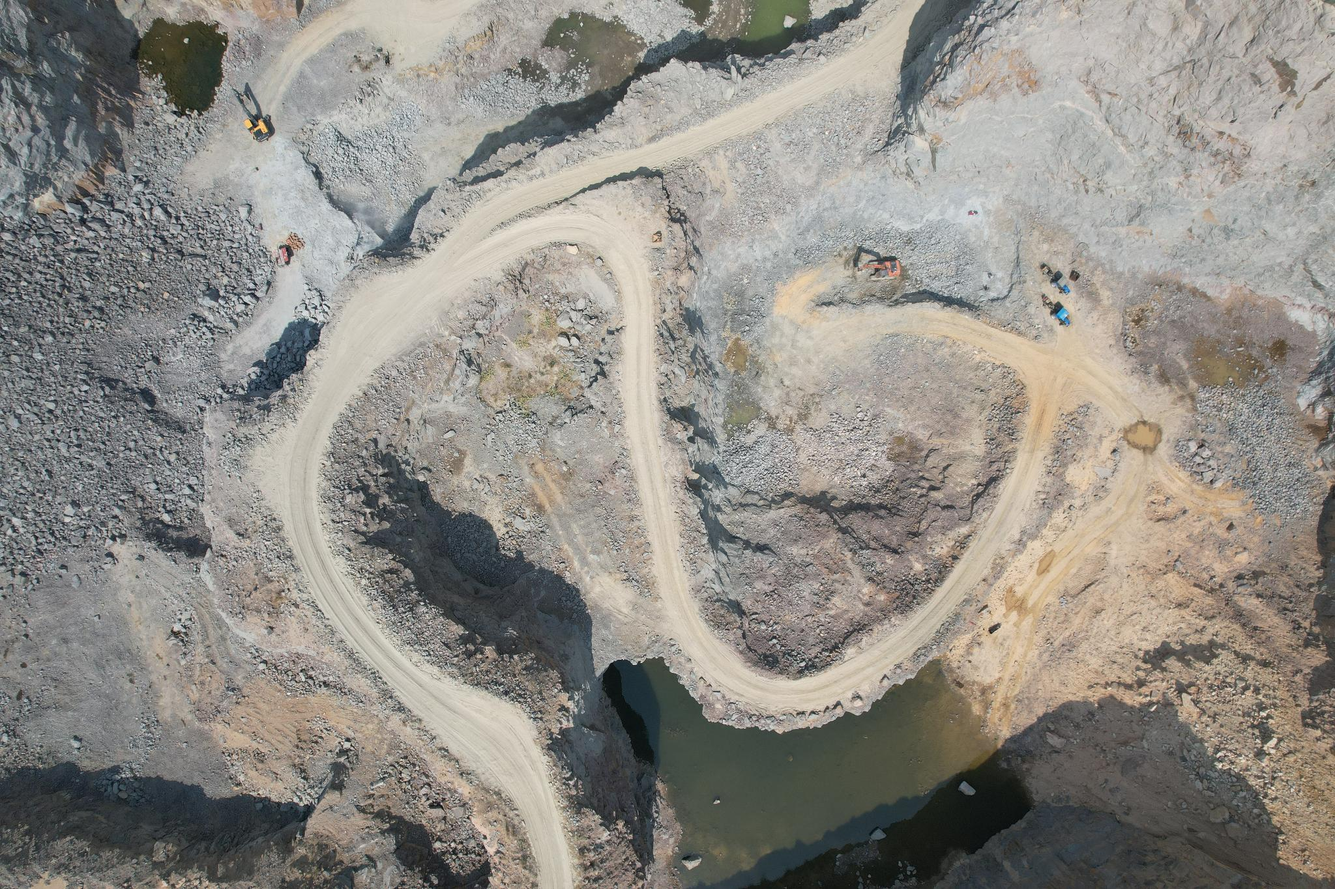benches: (268, 0, 1143, 889), (260, 0, 478, 105)
excavator: (227, 80, 288, 146), (844, 236, 922, 285)
